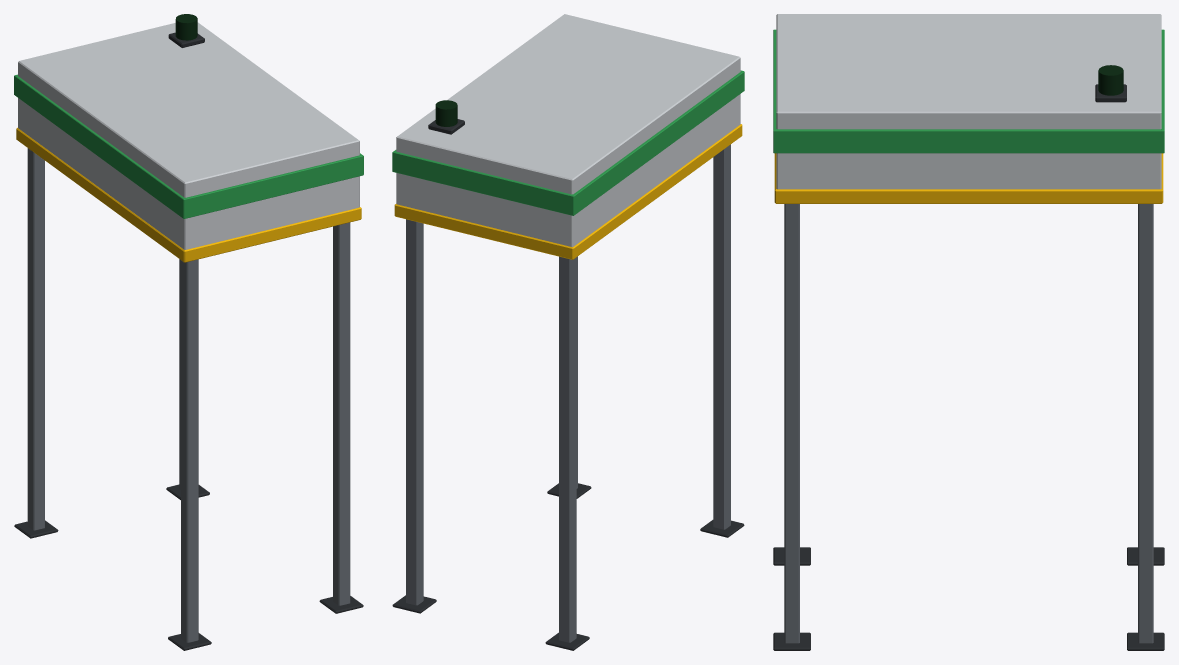
Rendered from emitter_raw_green.glb.
3 renders of one model, left to right at view 1: azimuth 30°, elevation 25°; view 2: azimuth 150°, elevation 25°; view 3: azimuth 270°, elevation 25°, orthographic. The views are drawn at different scales.
Visible parts, largest first — view 1: Emitter_Static, Band, EmitterLamp; view 2: Emitter_Static, Band, EmitterLamp; view 3: Emitter_Static, Band, EmitterLamp.
Part boxes in pixels (<box>): Emitter_Static: <box>14,22,363,650</box>; Band: <box>14,74,363,218</box>; EmitterLamp: <box>175,14,197,40</box>; Emitter_Static: <box>392,14,744,650</box>; Band: <box>392,70,744,215</box>; EmitterLamp: <box>435,100,457,126</box>; Emitter_Static: <box>773,14,1164,650</box>; Band: <box>773,29,1164,153</box>; EmitterLamp: <box>1098,65,1123,95</box>.
Size of the model in its own units: 0.76 by 1.97 by 1.24.
